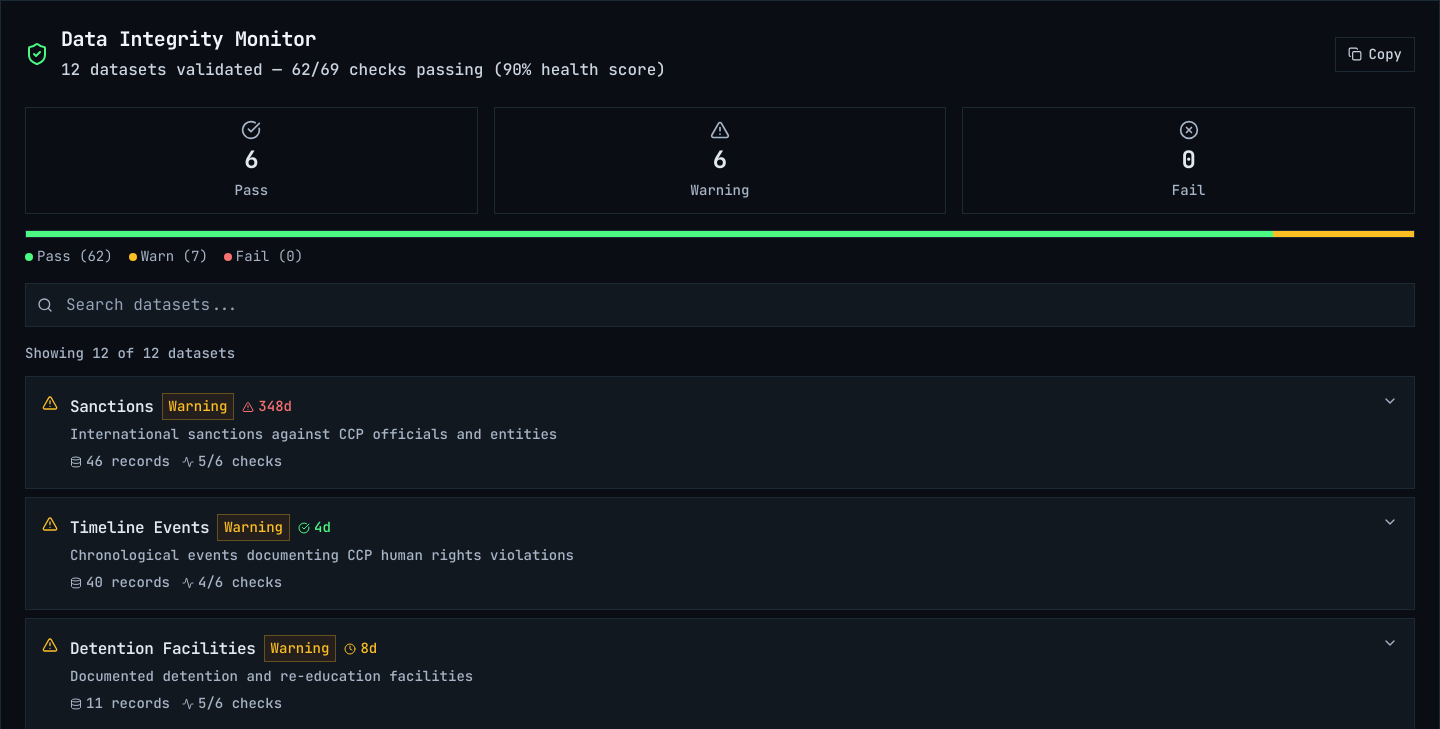
Test: DataIntegrityMonitor › clicking a dataset card expands it
Click the button with aria-label "Sanctions: 46 records, Warning status".
click(720, 432)  # box [26,377,1414,488]
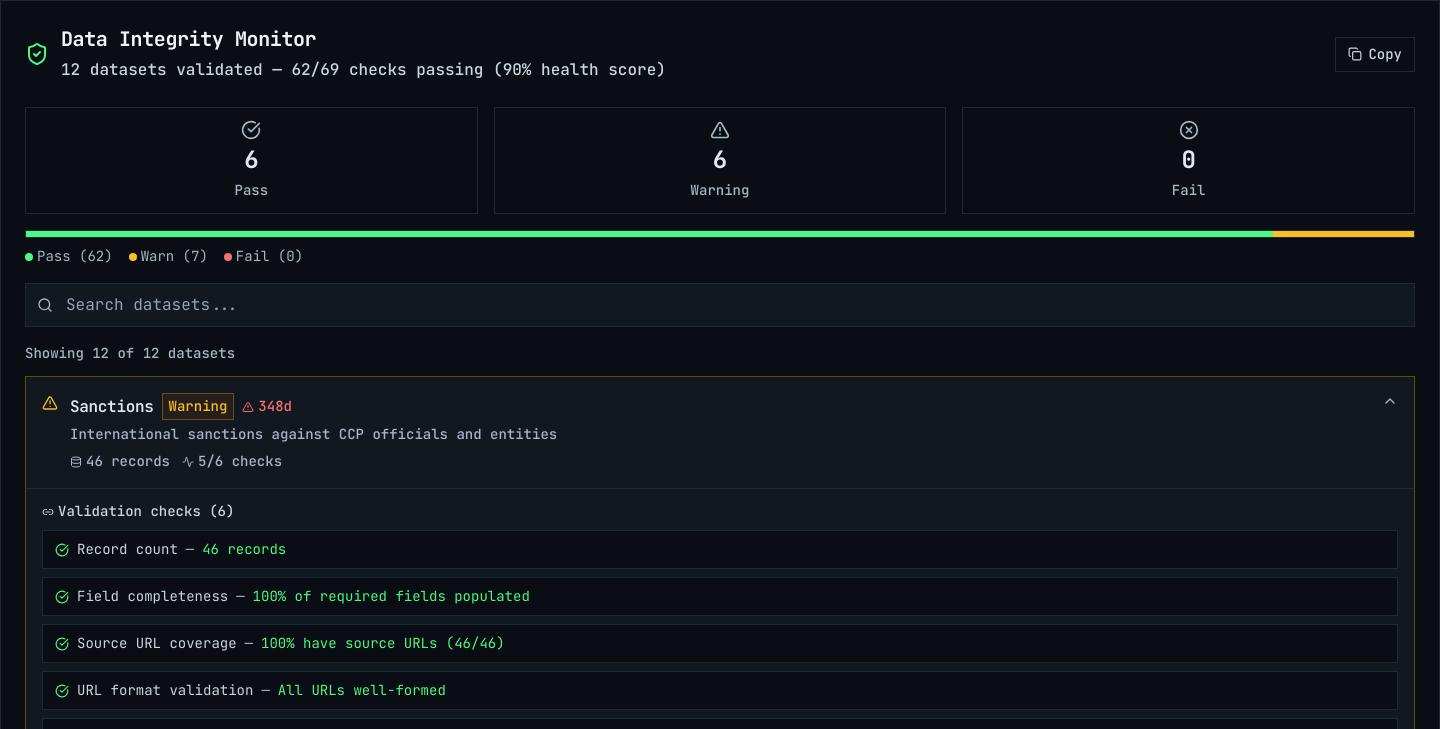
Expected: the button with aria-label "Sanctions: 46 records, Warning status" is expanded, [26,377,1414,488]
